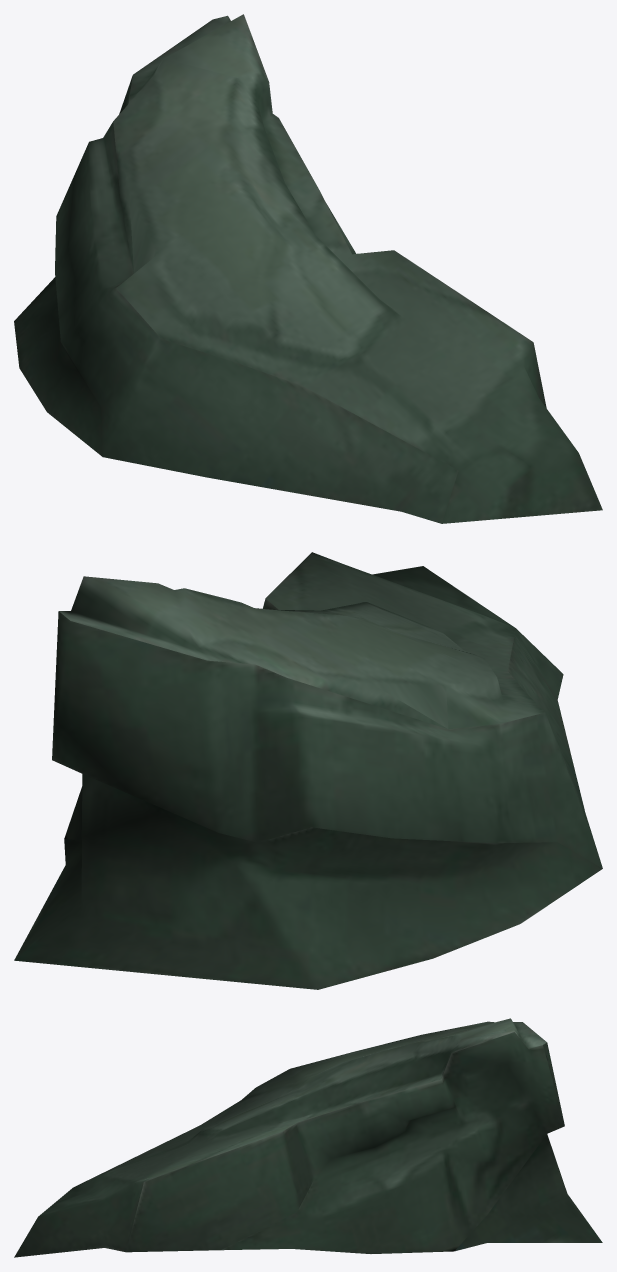
The model's file is Moba_st04.FBX.
The picture shows the model from 3 angles, top to bottom: view 1: azimuth 30°, elevation 25°; view 2: azimuth 150°, elevation 25°; view 3: azimuth 270°, elevation 25°; orthographic projection. The views are drawn at different scales.
Visible parts, largest first — view 1: Moba_st04; view 2: Moba_st04; view 3: Moba_st04.
Part boxes in pixels (x1,y1,x2,y2): Moba_st04: (14, 14, 602, 523); Moba_st04: (14, 552, 602, 989); Moba_st04: (14, 1018, 602, 1257).
Size of the model in its own units: 2.3 by 4.39 by 1.76.
